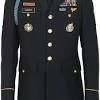uniform: (2, 2, 95, 97)
